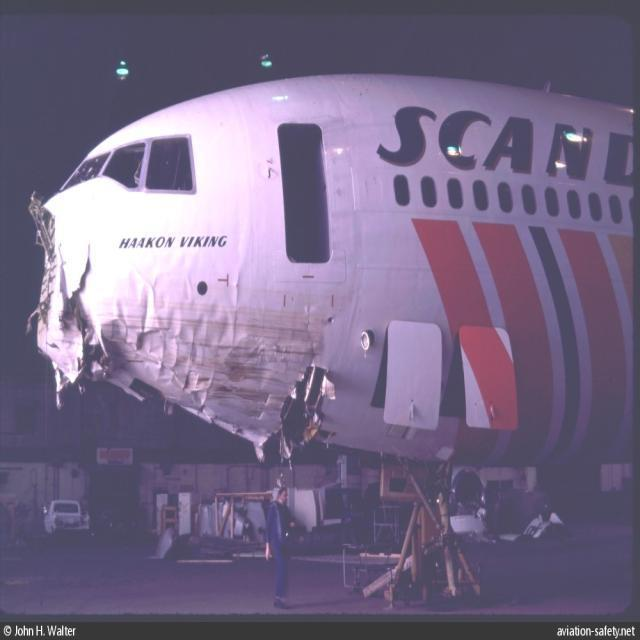crack: (26, 194, 100, 398), (258, 361, 338, 464)
dent: (110, 291, 290, 441)
